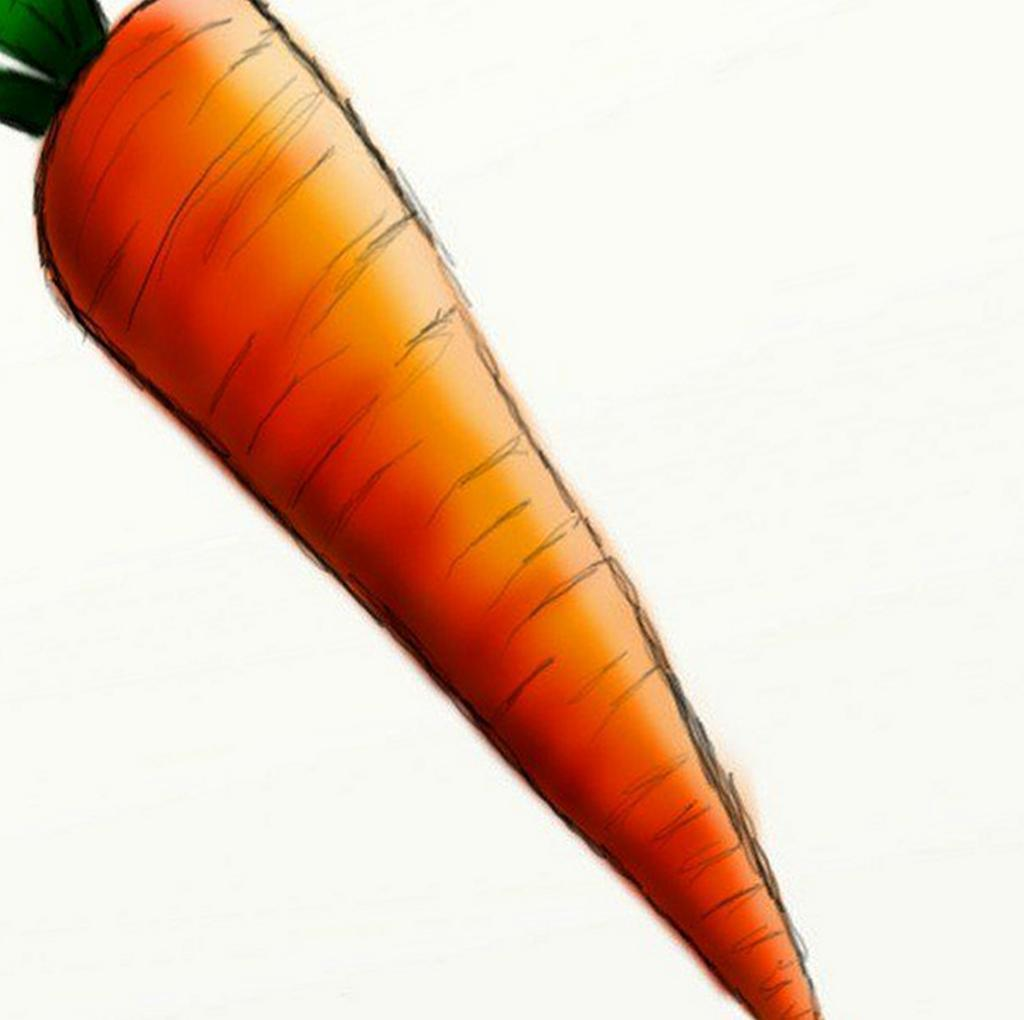carrot: (4, 18, 865, 1020)
